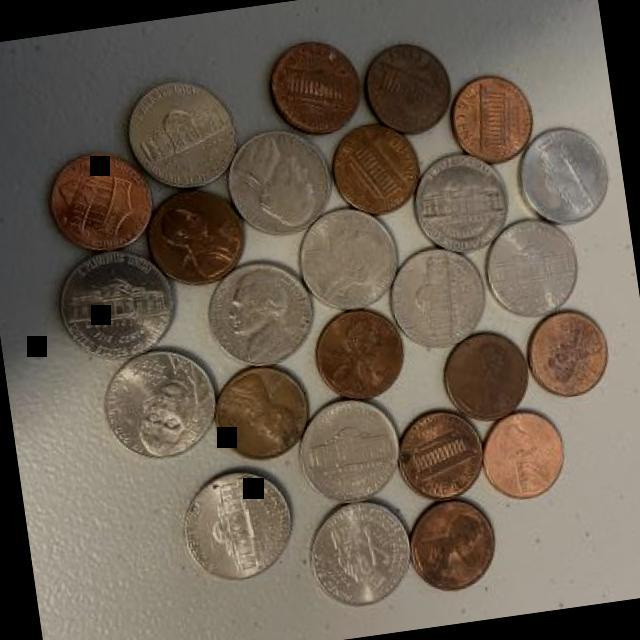Nickel: (92, 346, 225, 470), (50, 244, 180, 369), (120, 73, 244, 197), (177, 465, 300, 590), (220, 123, 340, 243), (301, 496, 418, 616), (205, 256, 319, 374), (291, 201, 404, 317), (295, 394, 408, 507), (382, 241, 492, 356), (508, 122, 615, 234), (408, 148, 514, 258), (478, 217, 582, 325)
Penny: (40, 144, 158, 258), (144, 183, 250, 291), (262, 34, 366, 142), (306, 300, 410, 406), (210, 362, 316, 466), (401, 492, 503, 600), (326, 119, 425, 225), (358, 38, 458, 142), (392, 405, 492, 506), (436, 328, 534, 426), (517, 304, 613, 404), (446, 72, 538, 172), (478, 406, 570, 506)
